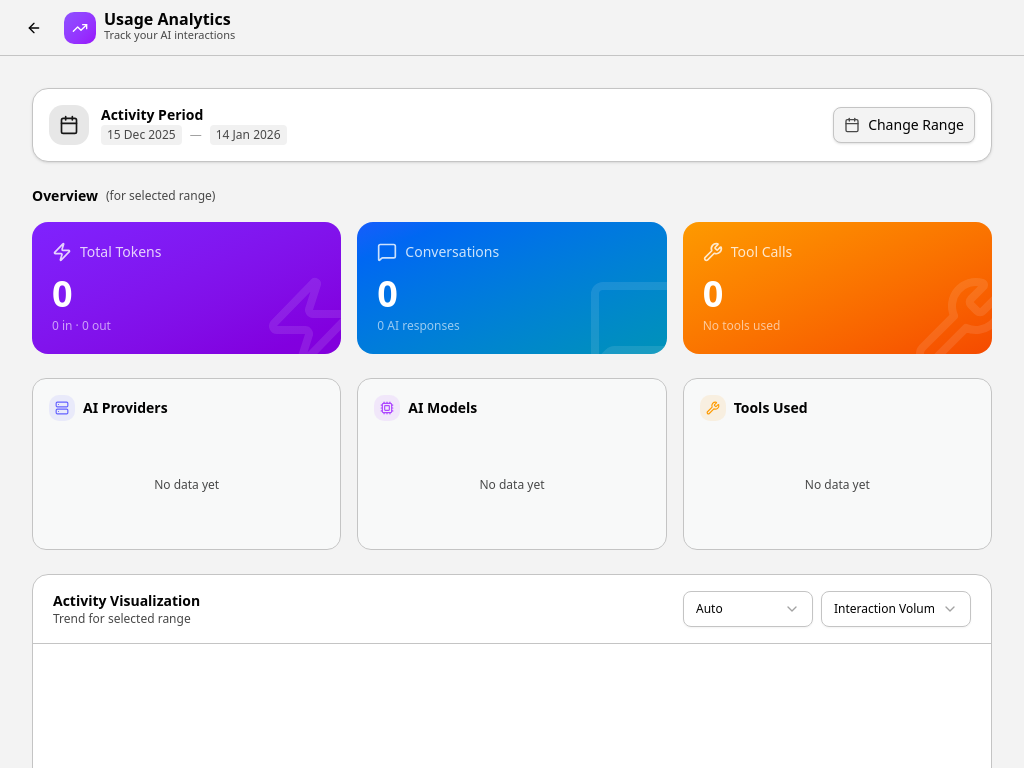
UsagePage component › interactions › should allow changing chart view
Click the dropdown named "Select view" at (896, 609), box [821,591,971,627]
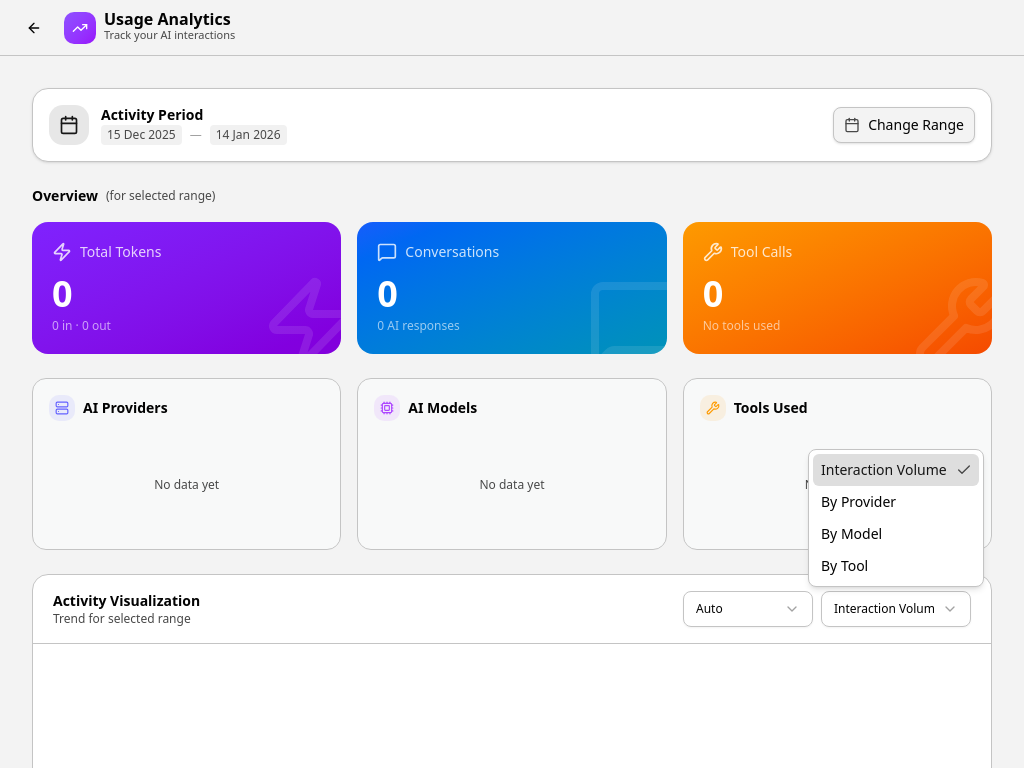
Click the option "By Provider" at (859, 502), box [821,492,896,511]
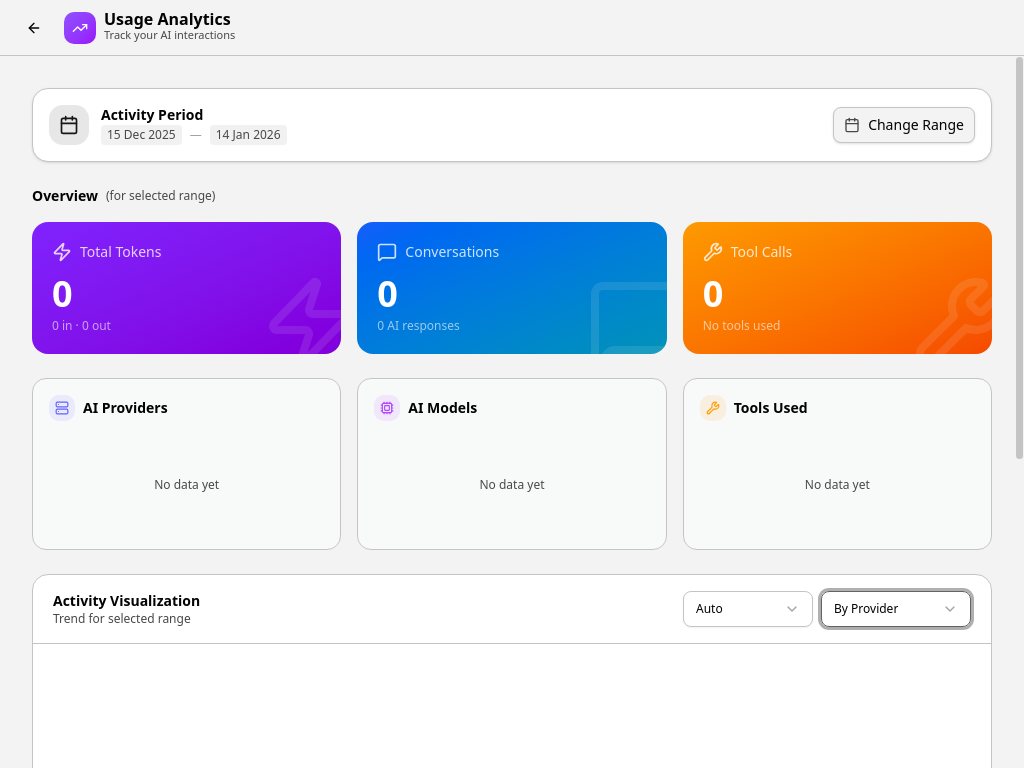
Expected: the text "By Provider" is shown, [834,601,898,617]
